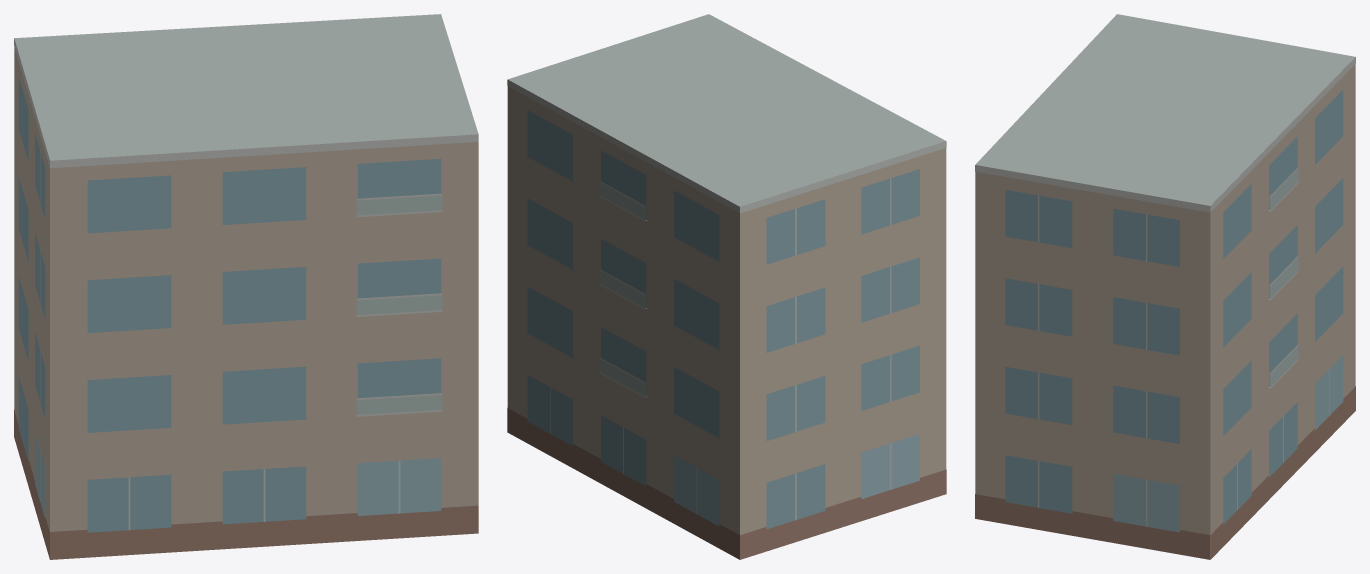
The model's file is survey-upis-32496965.glb.
The picture shows the model from 3 angles, left to right: view 1: azimuth 30°, elevation 25°; view 2: azimuth 150°, elevation 25°; view 3: azimuth 270°, elevation 25°; orthographic projection. The views are drawn at different scales.
Visible parts, largest first — view 1: survey-upis-32496965.tmp; view 2: survey-upis-32496965.tmp; view 3: survey-upis-32496965.tmp.
Part boxes in pixels (x1,y1,x2,y2): survey-upis-32496965.tmp: (14, 14, 478, 559); survey-upis-32496965.tmp: (507, 14, 946, 559); survey-upis-32496965.tmp: (975, 14, 1355, 559).
Bounding box in the file's own units: 15.02 × 12.9 × 12.59.
